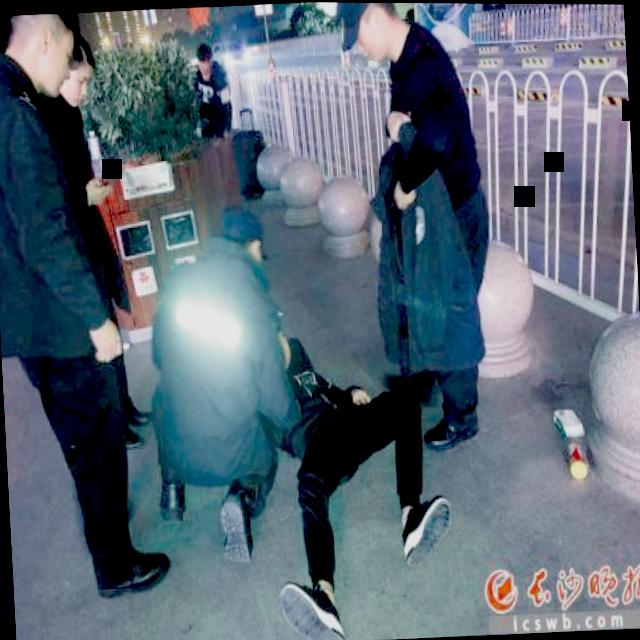Fall-Detected: (240, 302, 470, 638)
